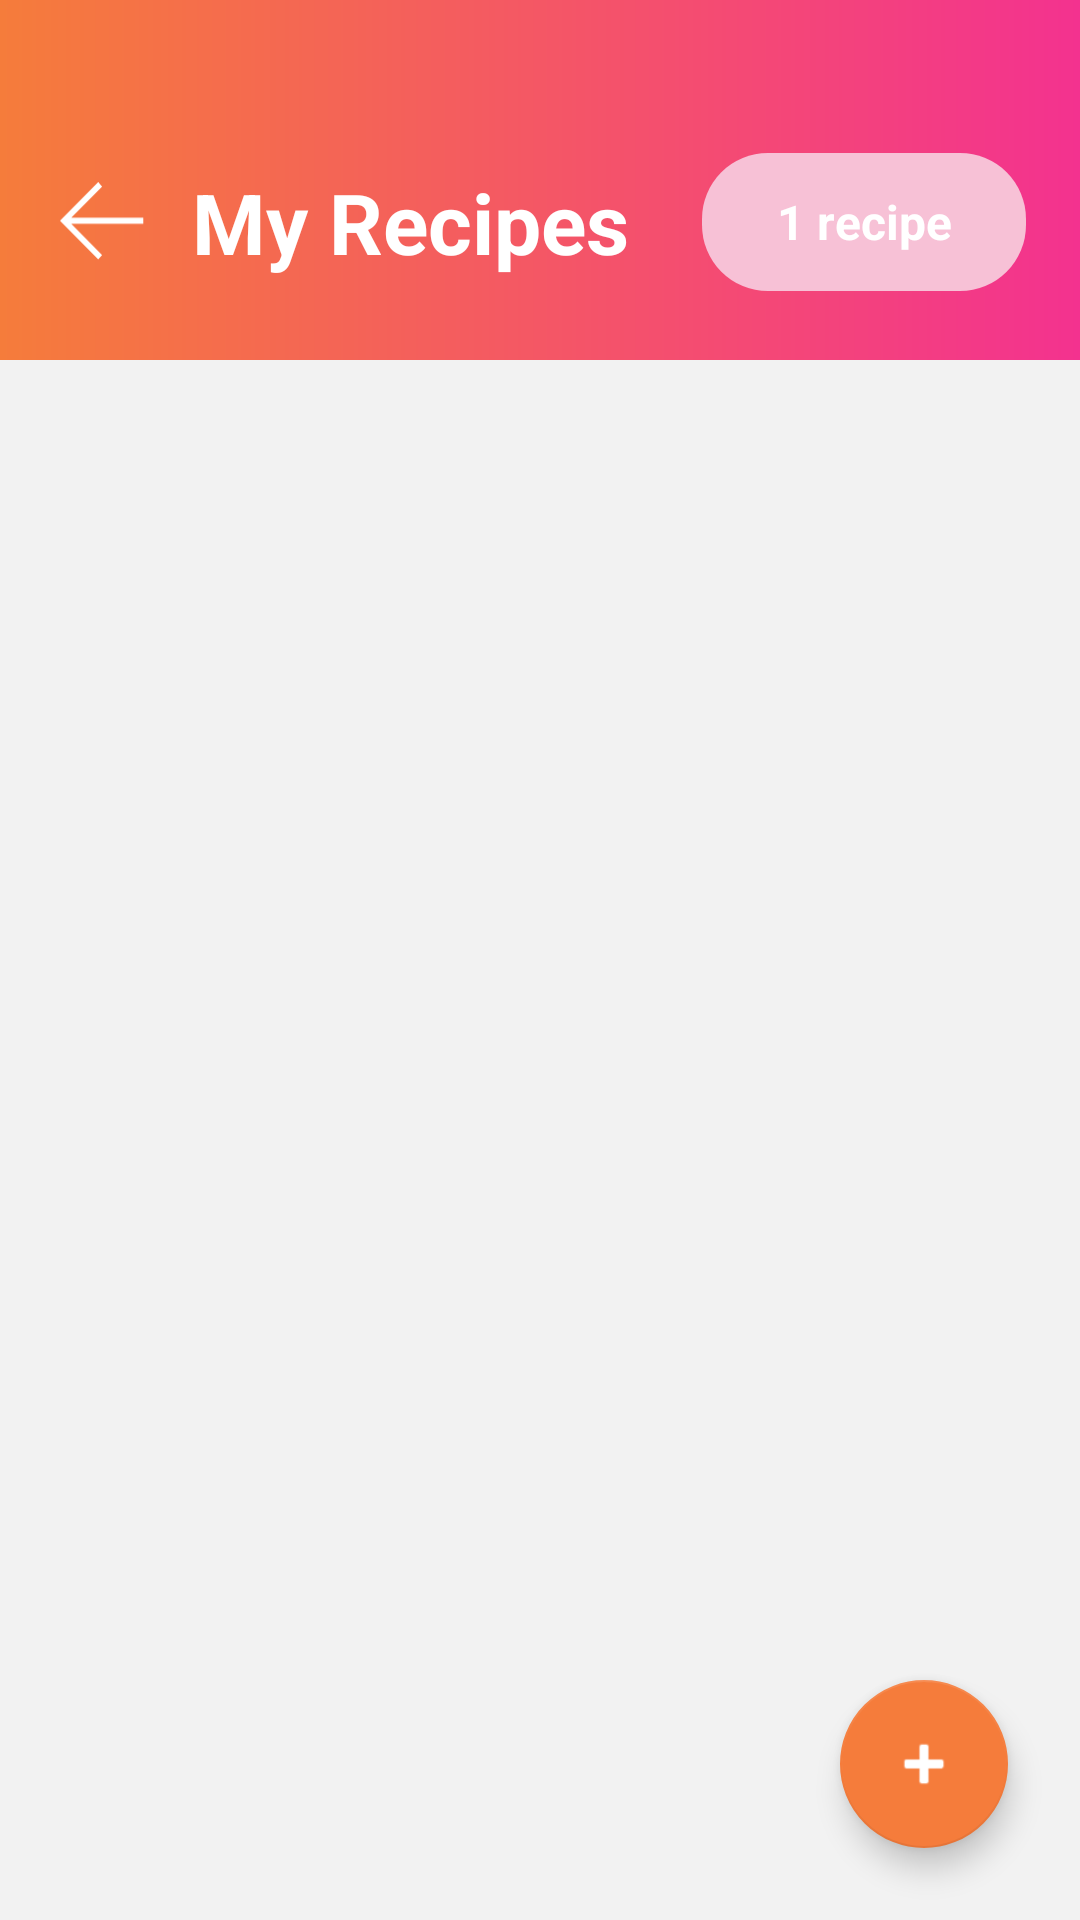

Point at icon controls on the screen. Image size 1080*1920, points as (x=x, y=y).
Add Recipe: (x=924, y=1764)
arrow back: (x=102, y=221)
